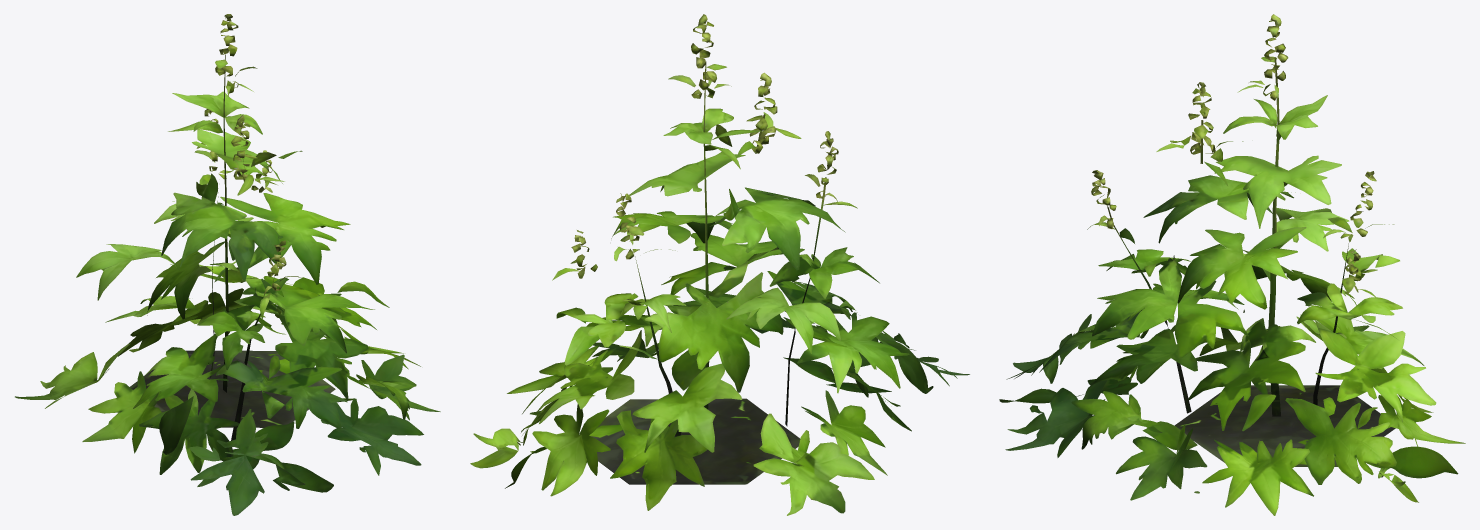
Rendered from ragweed.glb.
3 views of the same model, side by side, from view 1: azimuth 30°, elevation 25°; view 2: azimuth 150°, elevation 25°; view 3: azimuth 270°, elevation 25° (orthographic). The views are drawn at different scales.
Visible parts, largest first — view 1: tripo_node_2a33e083-7634-4fa1-aa61-22bc6fa4bdea; view 2: tripo_node_2a33e083-7634-4fa1-aa61-22bc6fa4bdea; view 3: tripo_node_2a33e083-7634-4fa1-aa61-22bc6fa4bdea.
Part boxes in pixels (bbox=[...]): tripo_node_2a33e083-7634-4fa1-aa61-22bc6fa4bdea: bbox=[15, 14, 440, 515]; tripo_node_2a33e083-7634-4fa1-aa61-22bc6fa4bdea: bbox=[470, 14, 969, 515]; tripo_node_2a33e083-7634-4fa1-aa61-22bc6fa4bdea: bbox=[999, 14, 1465, 515].
Size of the model in its own units: 0.9155 by 0.9878 by 0.9995.
Materials: 1 (1 with a texture image).
